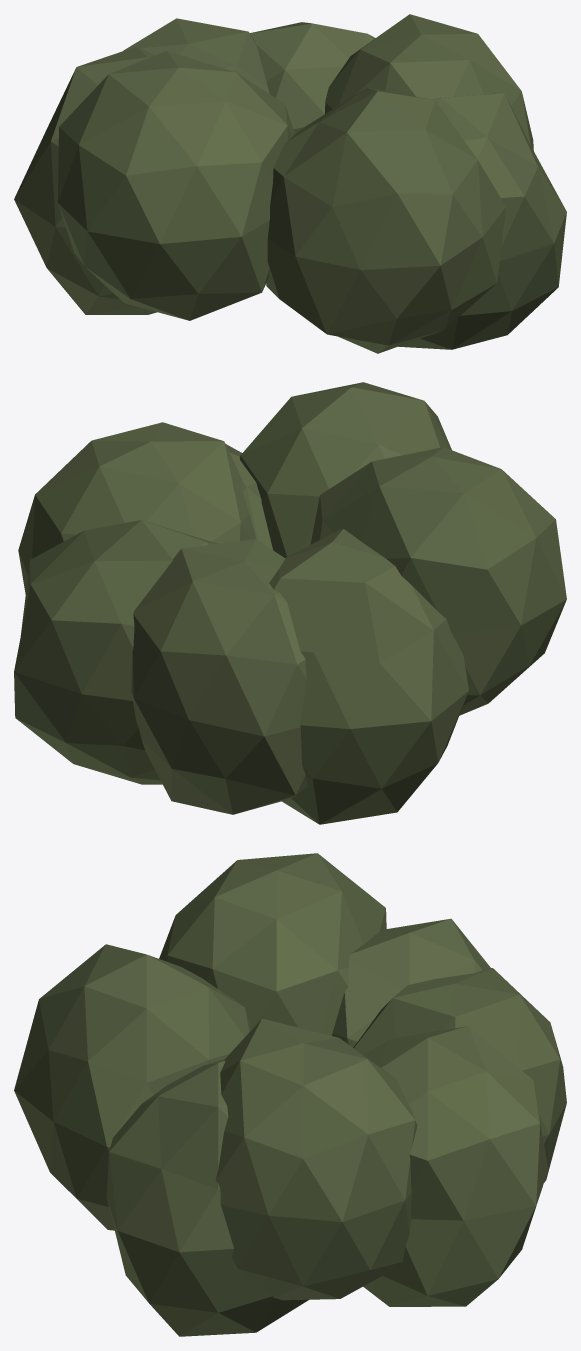
File: coast-seagrass.glb
The picture shows the model from 3 angles, top to bottom: view 1: azimuth 30°, elevation 25°; view 2: azimuth 150°, elevation 25°; view 3: azimuth 270°, elevation 25°; orthographic projection. The views are drawn at different scales.
Parts seen in each view (by area): view 1: coast-seagrass; view 2: coast-seagrass; view 3: coast-seagrass.
Part boxes in pixels (x1,y1,x2,y2): coast-seagrass: (14,14,566,353); coast-seagrass: (14,382,566,824); coast-seagrass: (14,853,566,1336).
Size of the model in its own units: 1.03 by 0.6548 by 0.9857.
